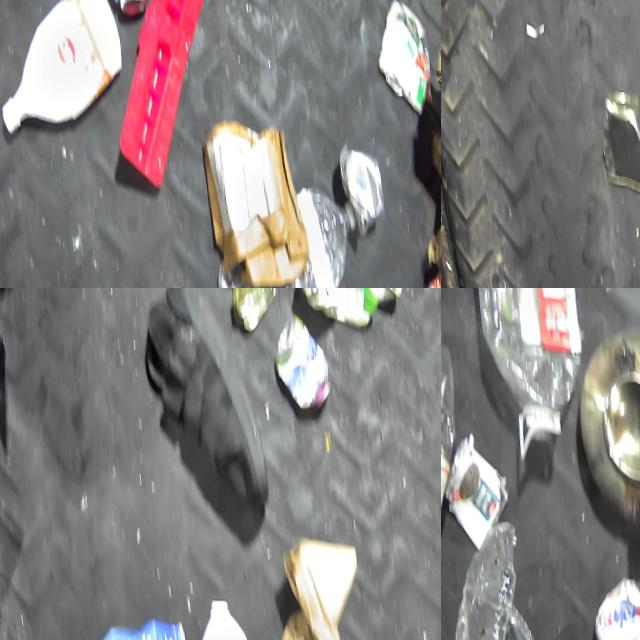can: (371, 0, 427, 114), (588, 88, 640, 196), (270, 321, 332, 410), (82, 592, 194, 640), (90, 0, 148, 18)
milk_jug: (180, 596, 256, 640)
plastic_bottle: (204, 190, 358, 288)
